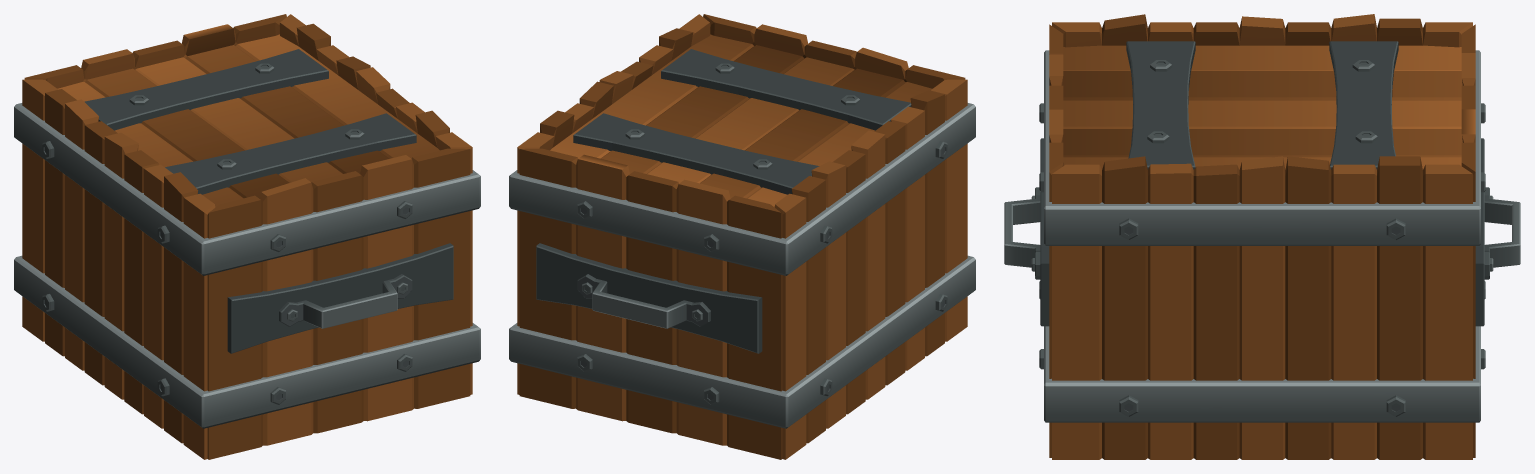
The picture shows the model from 3 angles, left to right: view 1: azimuth 30°, elevation 25°; view 2: azimuth 150°, elevation 25°; view 3: azimuth 270°, elevation 25°; orthographic projection. The views are drawn at different scales.
Visible parts, largest first — view 1: Box-3-2; view 2: Box-3-2; view 3: Box-3-2.
Part boxes in pixels (box(x1,y1,x2,y2)): Box-3-2: box(14, 14, 480, 459); Box-3-2: box(509, 14, 975, 459); Box-3-2: box(1004, 14, 1520, 459).
Bounding box in the file's own units: 148 × 125 × 198.
